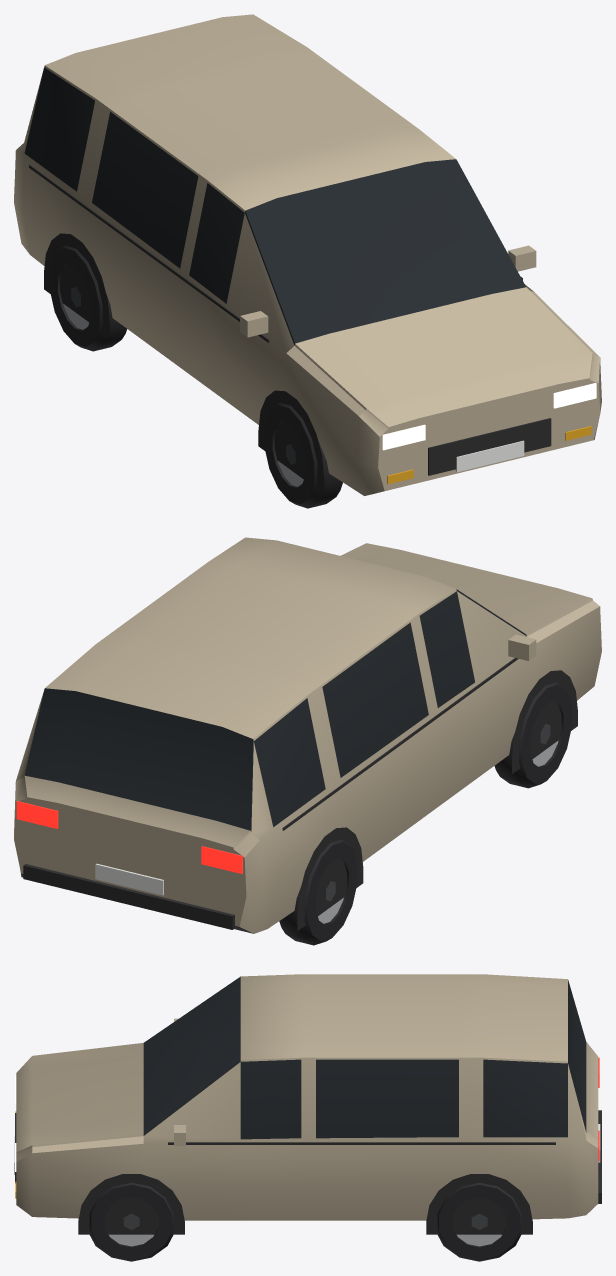
Rendered from suv_beige.glb.
3 views of the same model, one above another, from view 1: azimuth 30°, elevation 25°; view 2: azimuth 150°, elevation 25°; view 3: azimuth 270°, elevation 25° (orthographic). The views are drawn at different scales.
Visible parts, largest first — view 1: suv; view 2: suv; view 3: suv.
Part boxes in pixels (x1,y1,x2,y2): suv: [14, 14, 601, 508]; suv: [14, 537, 601, 945]; suv: [14, 974, 601, 1261].
Bounding box in the file's own units: 0.1338 × 0.1098 × 0.291.
